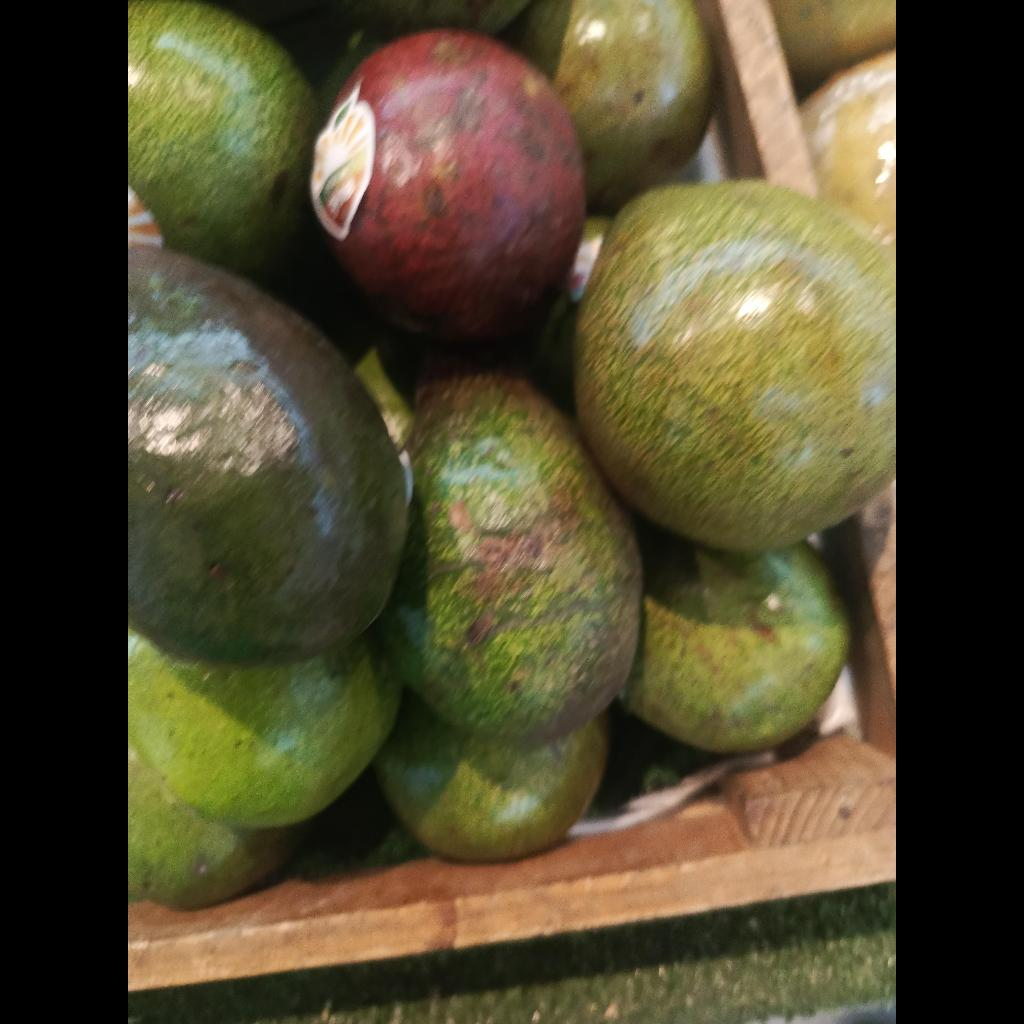anthracnose: (311, 29, 585, 343)
